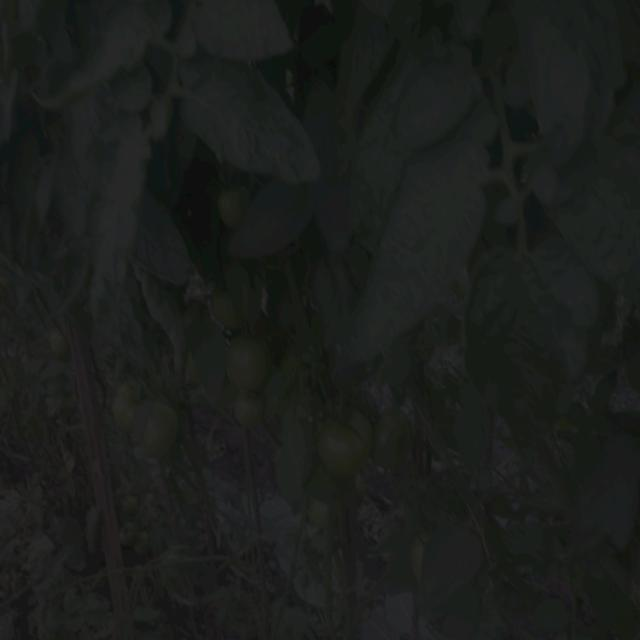tomato: (318, 410, 372, 478), (223, 337, 274, 386), (143, 402, 184, 455), (114, 375, 146, 434), (369, 403, 408, 450), (219, 185, 254, 230), (233, 387, 266, 429), (210, 293, 240, 330), (409, 532, 429, 582), (45, 327, 69, 361), (119, 522, 143, 551), (310, 501, 329, 535), (120, 496, 138, 515)
